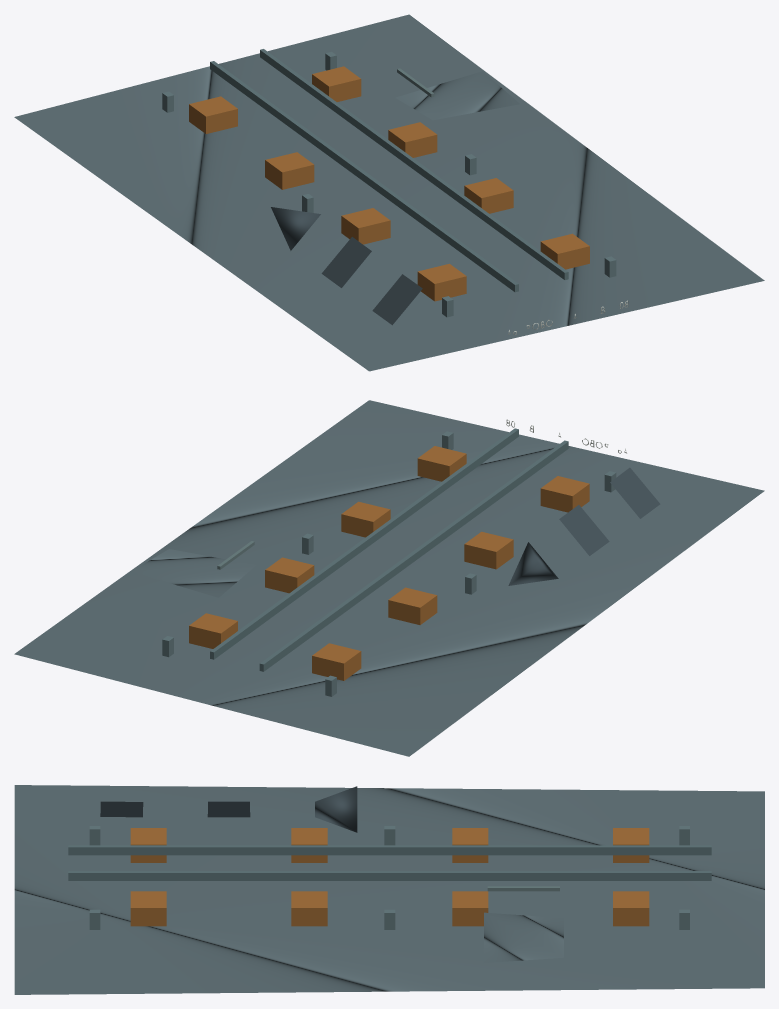
The model's file is robotic_assembly_line_d3_lod2.meshopt.glb.
3 renders of one model, top to bottom at view 1: azimuth 30°, elevation 25°; view 2: azimuth 150°, elevation 25°; view 3: azimuth 270°, elevation 25°, orthographic. The views are drawn at different scales.
Parts seen in each view (by area): view 1: ROBOTIC_ASSEMBLY_LINE_LOD2_STATIC_GEOMETRY; view 2: ROBOTIC_ASSEMBLY_LINE_LOD2_STATIC_GEOMETRY; view 3: ROBOTIC_ASSEMBLY_LINE_LOD2_STATIC_GEOMETRY.
Part boxes in pixels (bbox=[...]): ROBOTIC_ASSEMBLY_LINE_LOD2_STATIC_GEOMETRY: bbox=[14, 14, 764, 371]; ROBOTIC_ASSEMBLY_LINE_LOD2_STATIC_GEOMETRY: bbox=[14, 400, 764, 756]; ROBOTIC_ASSEMBLY_LINE_LOD2_STATIC_GEOMETRY: bbox=[14, 785, 764, 994].
Size of the model in its own units: 17.99 by 2.14 by 28.02.
